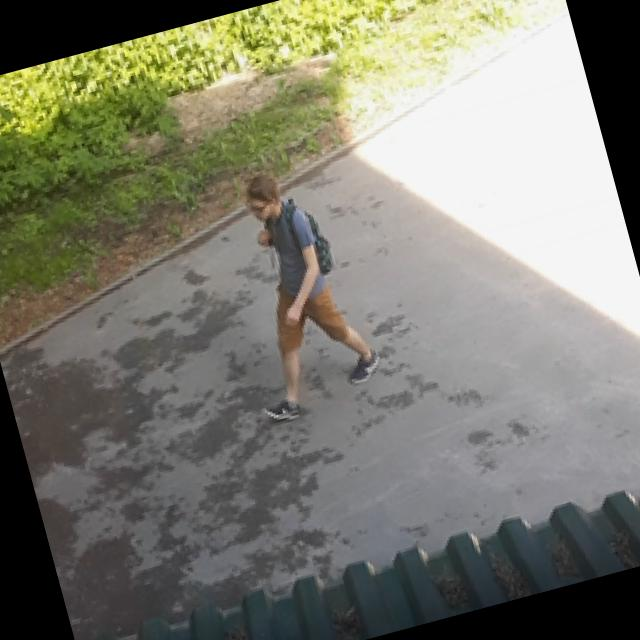person: (204, 156, 389, 427)
